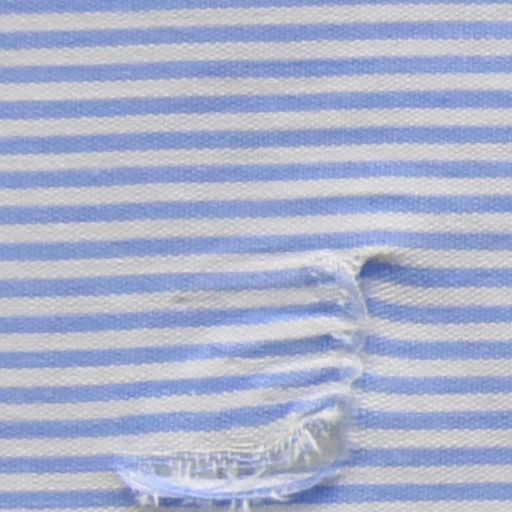defect: (89, 238, 401, 511)
